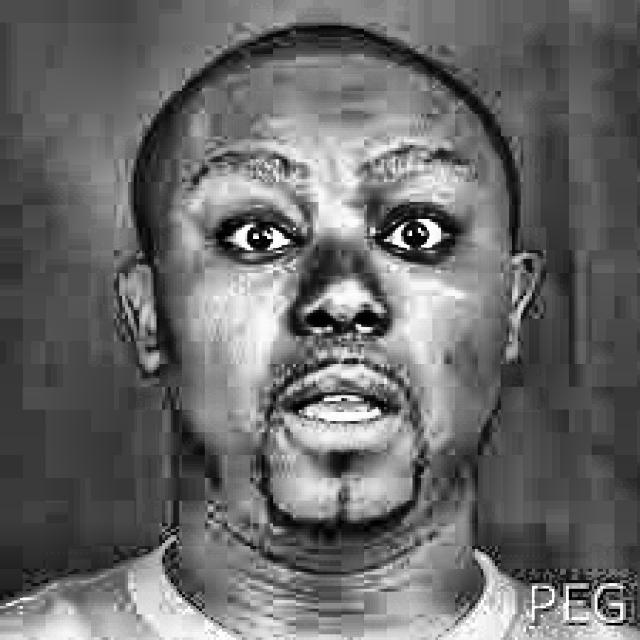surprise: (110, 38, 560, 576)
